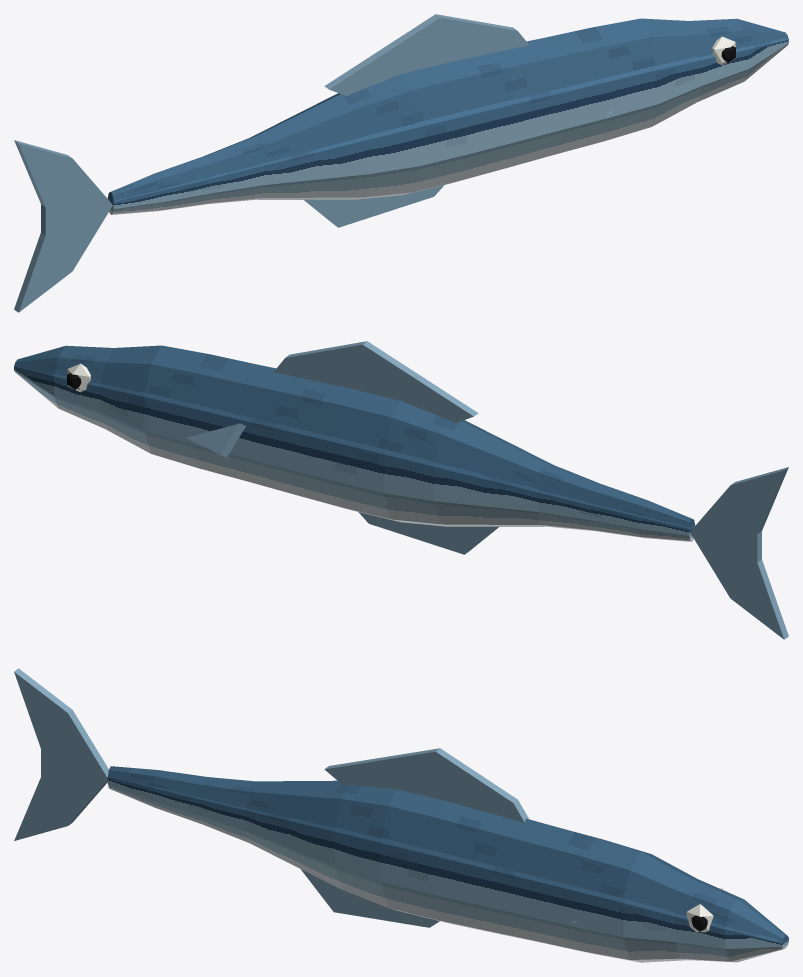
File: port_herring.glb
3 renders of one model, top to bottom at view 1: azimuth 30°, elevation 25°; view 2: azimuth 150°, elevation 25°; view 3: azimuth 330°, elevation 25°, orthographic.
Parts seen in each view (by area): view 1: fish_port_herring; view 2: fish_port_herring; view 3: fish_port_herring.
Boxes of the visible parts, box(x1,y1,x2,y2) form: fish_port_herring: box(14, 14, 788, 312); fish_port_herring: box(14, 341, 788, 639); fish_port_herring: box(14, 668, 788, 962).
Size of the model in its own units: 1.14 by 0.2725 by 0.1267.
4 materials, 1 textured.
